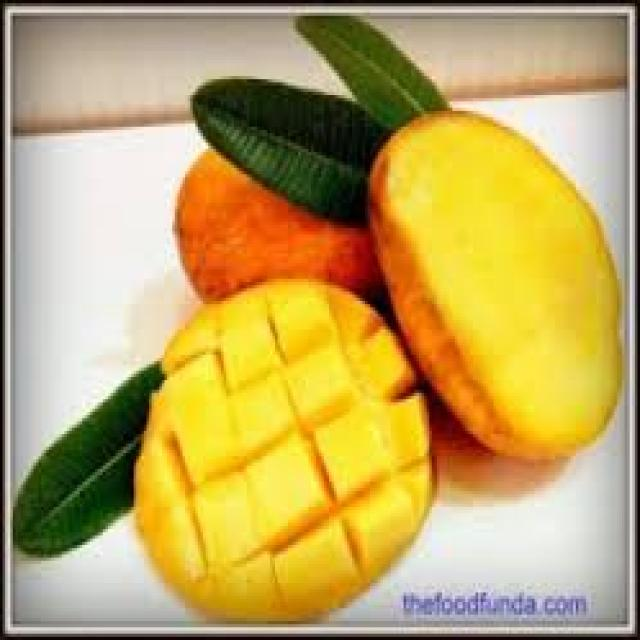mango: (134, 279, 437, 624)
